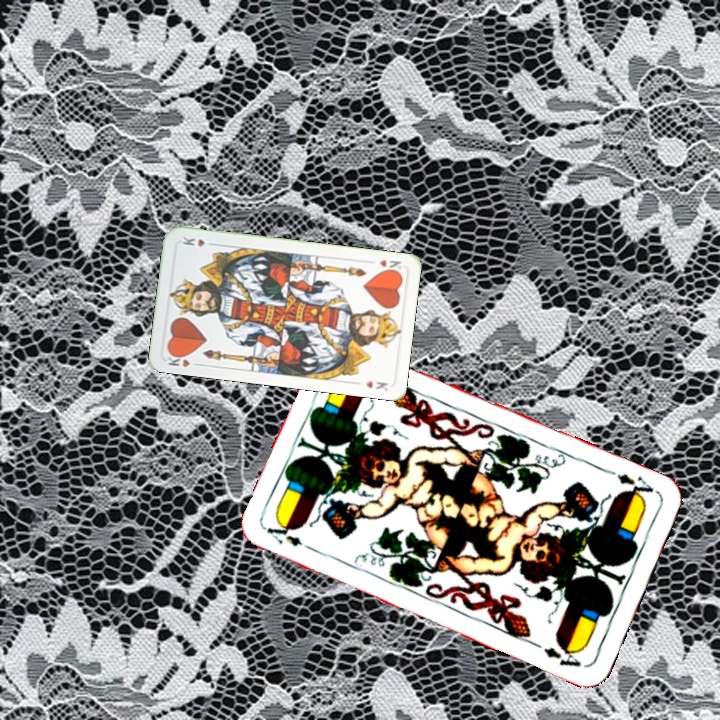EA: (262, 518, 319, 555), (613, 469, 656, 504)
HK: (163, 349, 203, 370), (375, 255, 404, 275)
